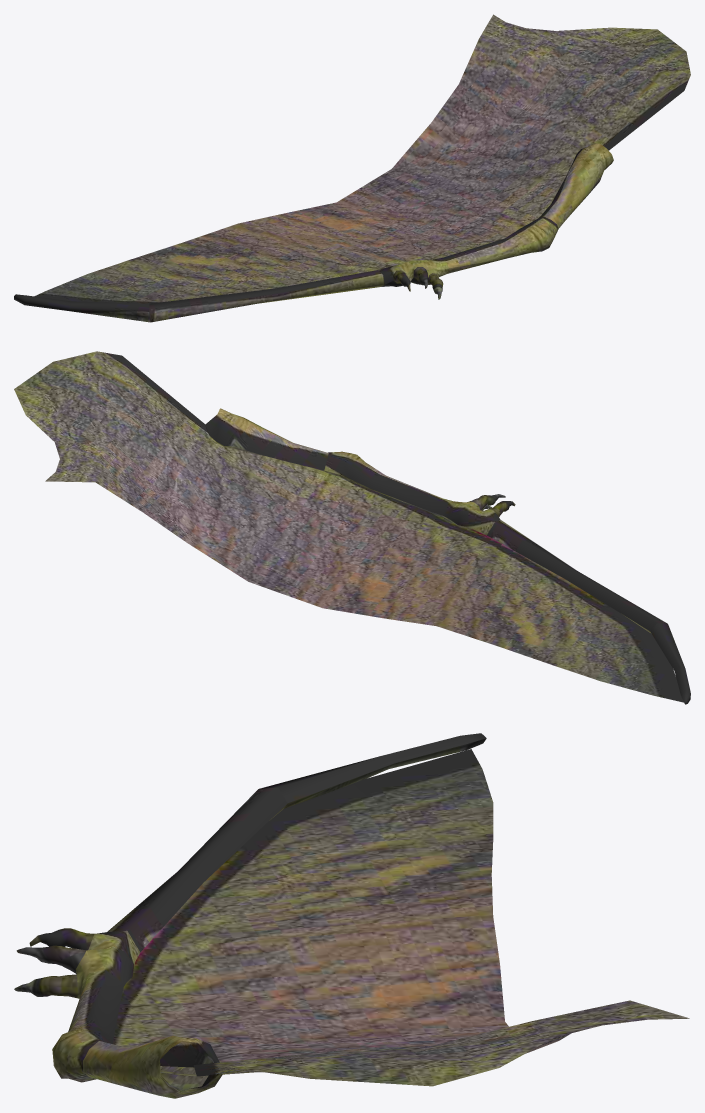
The model's file is ala2.obj.
The picture shows the model from 3 angles, top to bottom: view 1: azimuth 30°, elevation 25°; view 2: azimuth 150°, elevation 25°; view 3: azimuth 270°, elevation 25°; orthographic projection. The views are drawn at different scales.
Visible parts, largest first — view 1: Mesh2 default_object c341_5818_0165_bf49_1 Model, Mesh1 default_object c341_5818_0165_bf49_1 Model; view 2: Mesh2 default_object c341_5818_0165_bf49_1 Model, Mesh1 default_object c341_5818_0165_bf49_1 Model; view 3: Mesh2 default_object c341_5818_0165_bf49_1 Model, Mesh1 default_object c341_5818_0165_bf49_1 Model.
Part boxes in pixels (left/top/right/bottom): Mesh2 default_object c341_5818_0165_bf49_1 Model: left=34, top=14, right=690, bottom=303; Mesh1 default_object c341_5818_0165_bf49_1 Model: left=14, top=143, right=613, bottom=322; Mesh2 default_object c341_5818_0165_bf49_1 Model: left=14, top=351, right=683, bottom=702; Mesh1 default_object c341_5818_0165_bf49_1 Model: left=205, top=408, right=690, bottom=704; Mesh2 default_object c341_5818_0165_bf49_1 Model: left=113, top=749, right=689, bottom=1086; Mesh1 default_object c341_5818_0165_bf49_1 Model: left=14, top=733, right=486, bottom=1098.
Bounding box in the file's own units: 2142 × 422 × 1049.
Materials: 1 (1 with a texture image).
